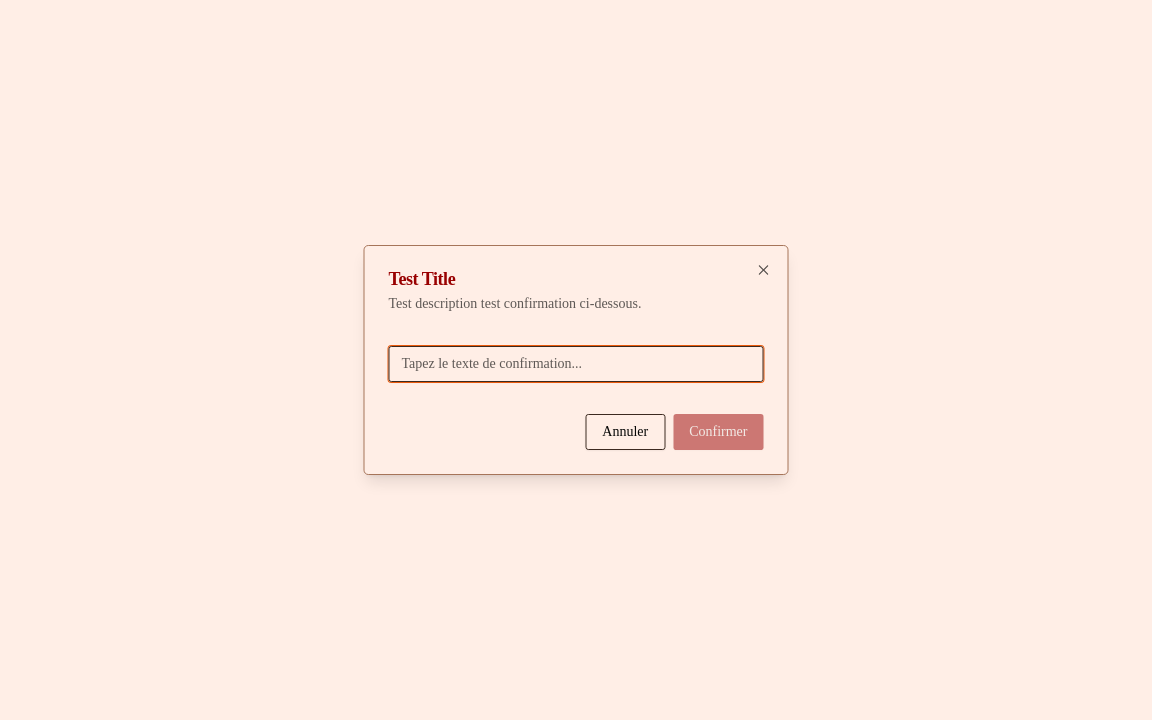
confirmationDialog › enables confirm button when input matches confirmation text
Type "test confirmation" into the field with placeholder "Tapez le texte de confirmation...".
click(576, 364); type("test confirmation")  # box [388,346,764,382]
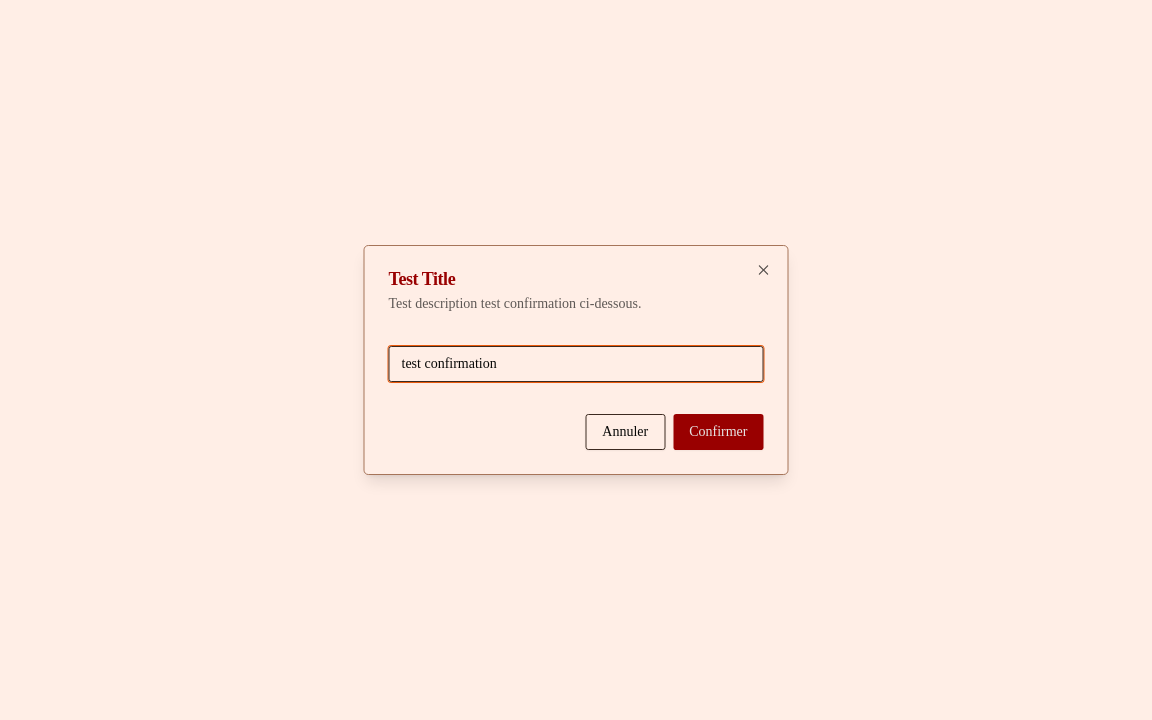
Result: the button "Confirmer" is enabled at [673,414,764,450]
